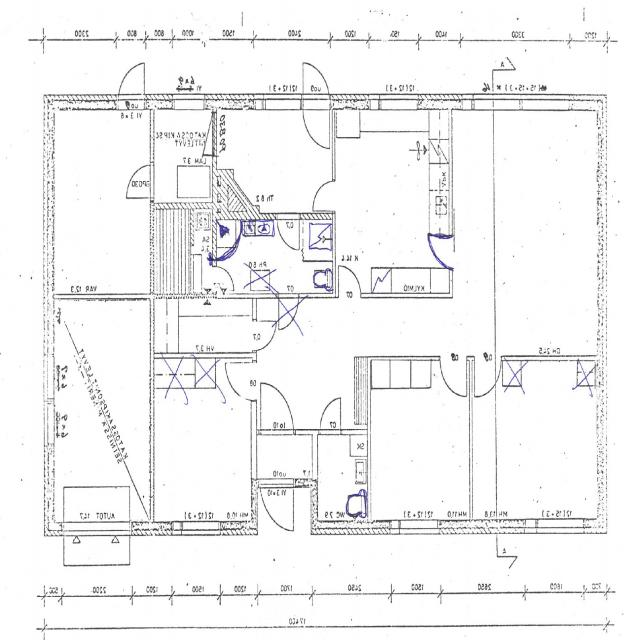door: (260, 479, 294, 536), (261, 382, 294, 434), (303, 56, 330, 111), (303, 94, 330, 148), (118, 56, 144, 110), (183, 113, 216, 155), (224, 362, 257, 401), (474, 356, 500, 397), (441, 356, 466, 397), (128, 165, 154, 197), (338, 262, 361, 298), (278, 213, 300, 250), (427, 236, 452, 266), (311, 181, 336, 211), (320, 399, 341, 434), (252, 321, 277, 350), (213, 266, 234, 291)
